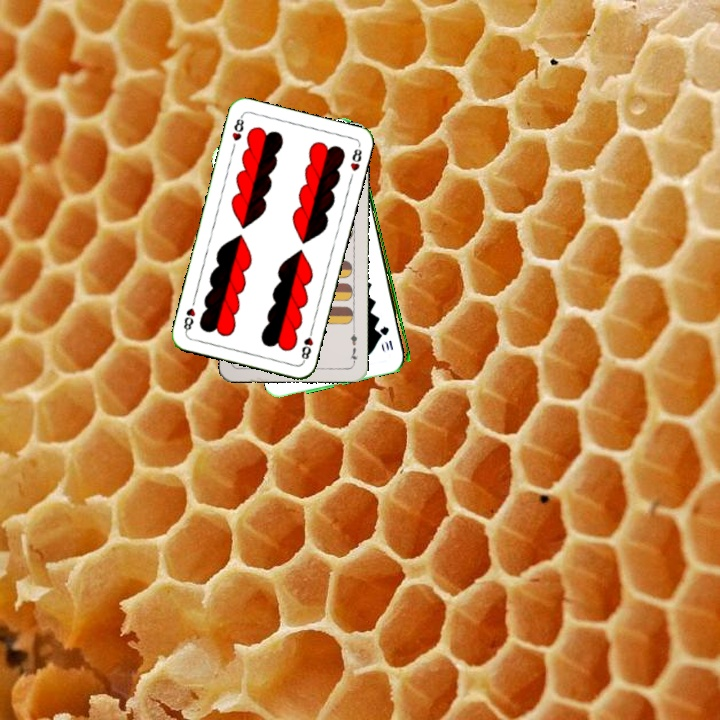E7: (346, 325, 360, 366)
G10: (378, 322, 396, 353)
H8: (297, 324, 316, 365), (228, 112, 247, 144)
